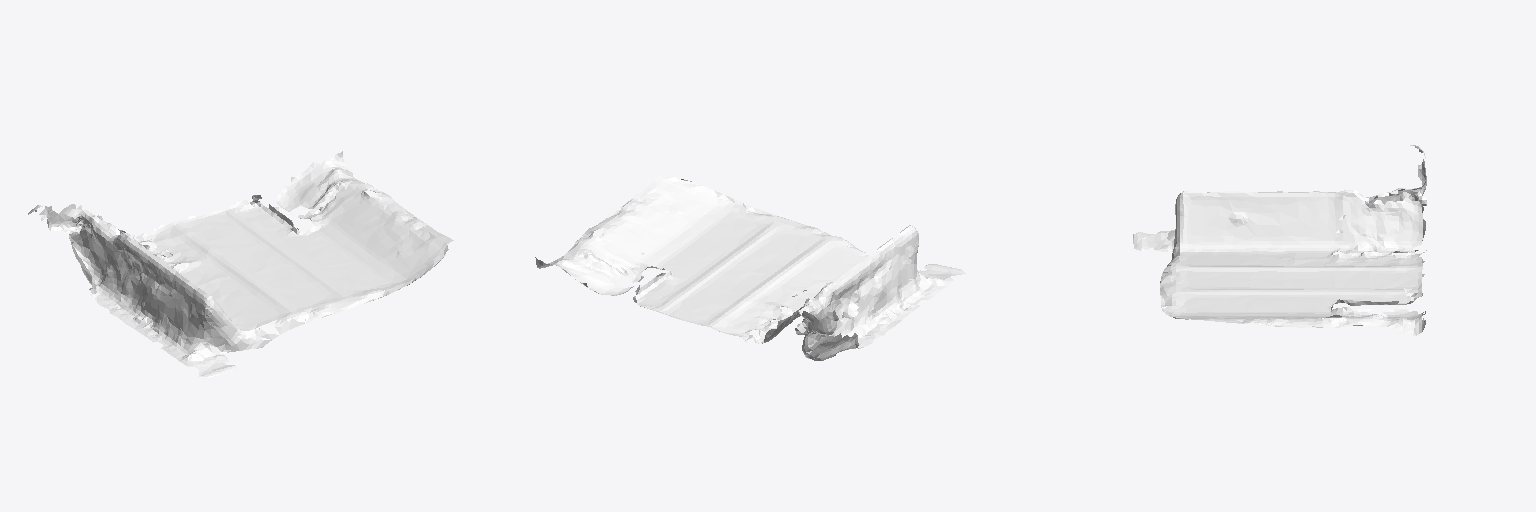
Rendered from shield.obj.
3 views of the same model, side by side, from view 1: azimuth 30°, elevation 25°; view 2: azimuth 150°, elevation 25°; view 3: azimuth 270°, elevation 25° (orthographic).
Bounding box in the file's own units: 2.67 × 0.6125 × 2.14.